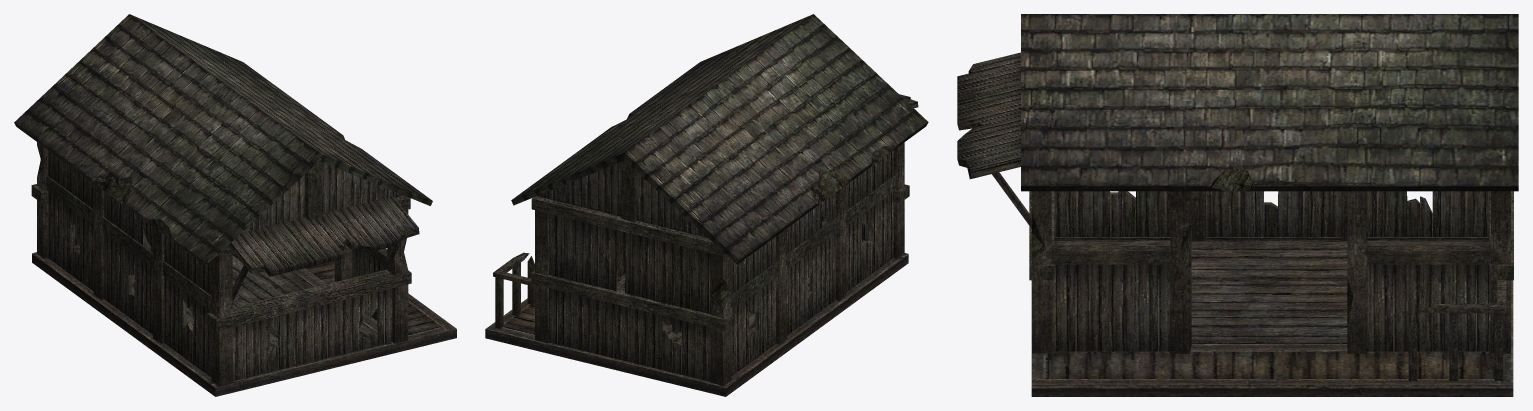
File: b_old_dock_obj_01.fbx
3 views of the same model, side by side, from view 1: azimuth 30°, elevation 25°; view 2: azimuth 150°, elevation 25°; view 3: azimuth 270°, elevation 25° (orthographic). The views are drawn at different scales.
Visible parts, largest first — view 1: objB_old_dock_obj_01; view 2: objB_old_dock_obj_01; view 3: objB_old_dock_obj_01.
Part boxes in pixels (x1,y1,x2,y2): objB_old_dock_obj_01: (14,14,456,396); objB_old_dock_obj_01: (485,14,928,396); objB_old_dock_obj_01: (957,14,1518,396).
Size of the model in its own units: 5.83 by 4.82 by 8.4.
